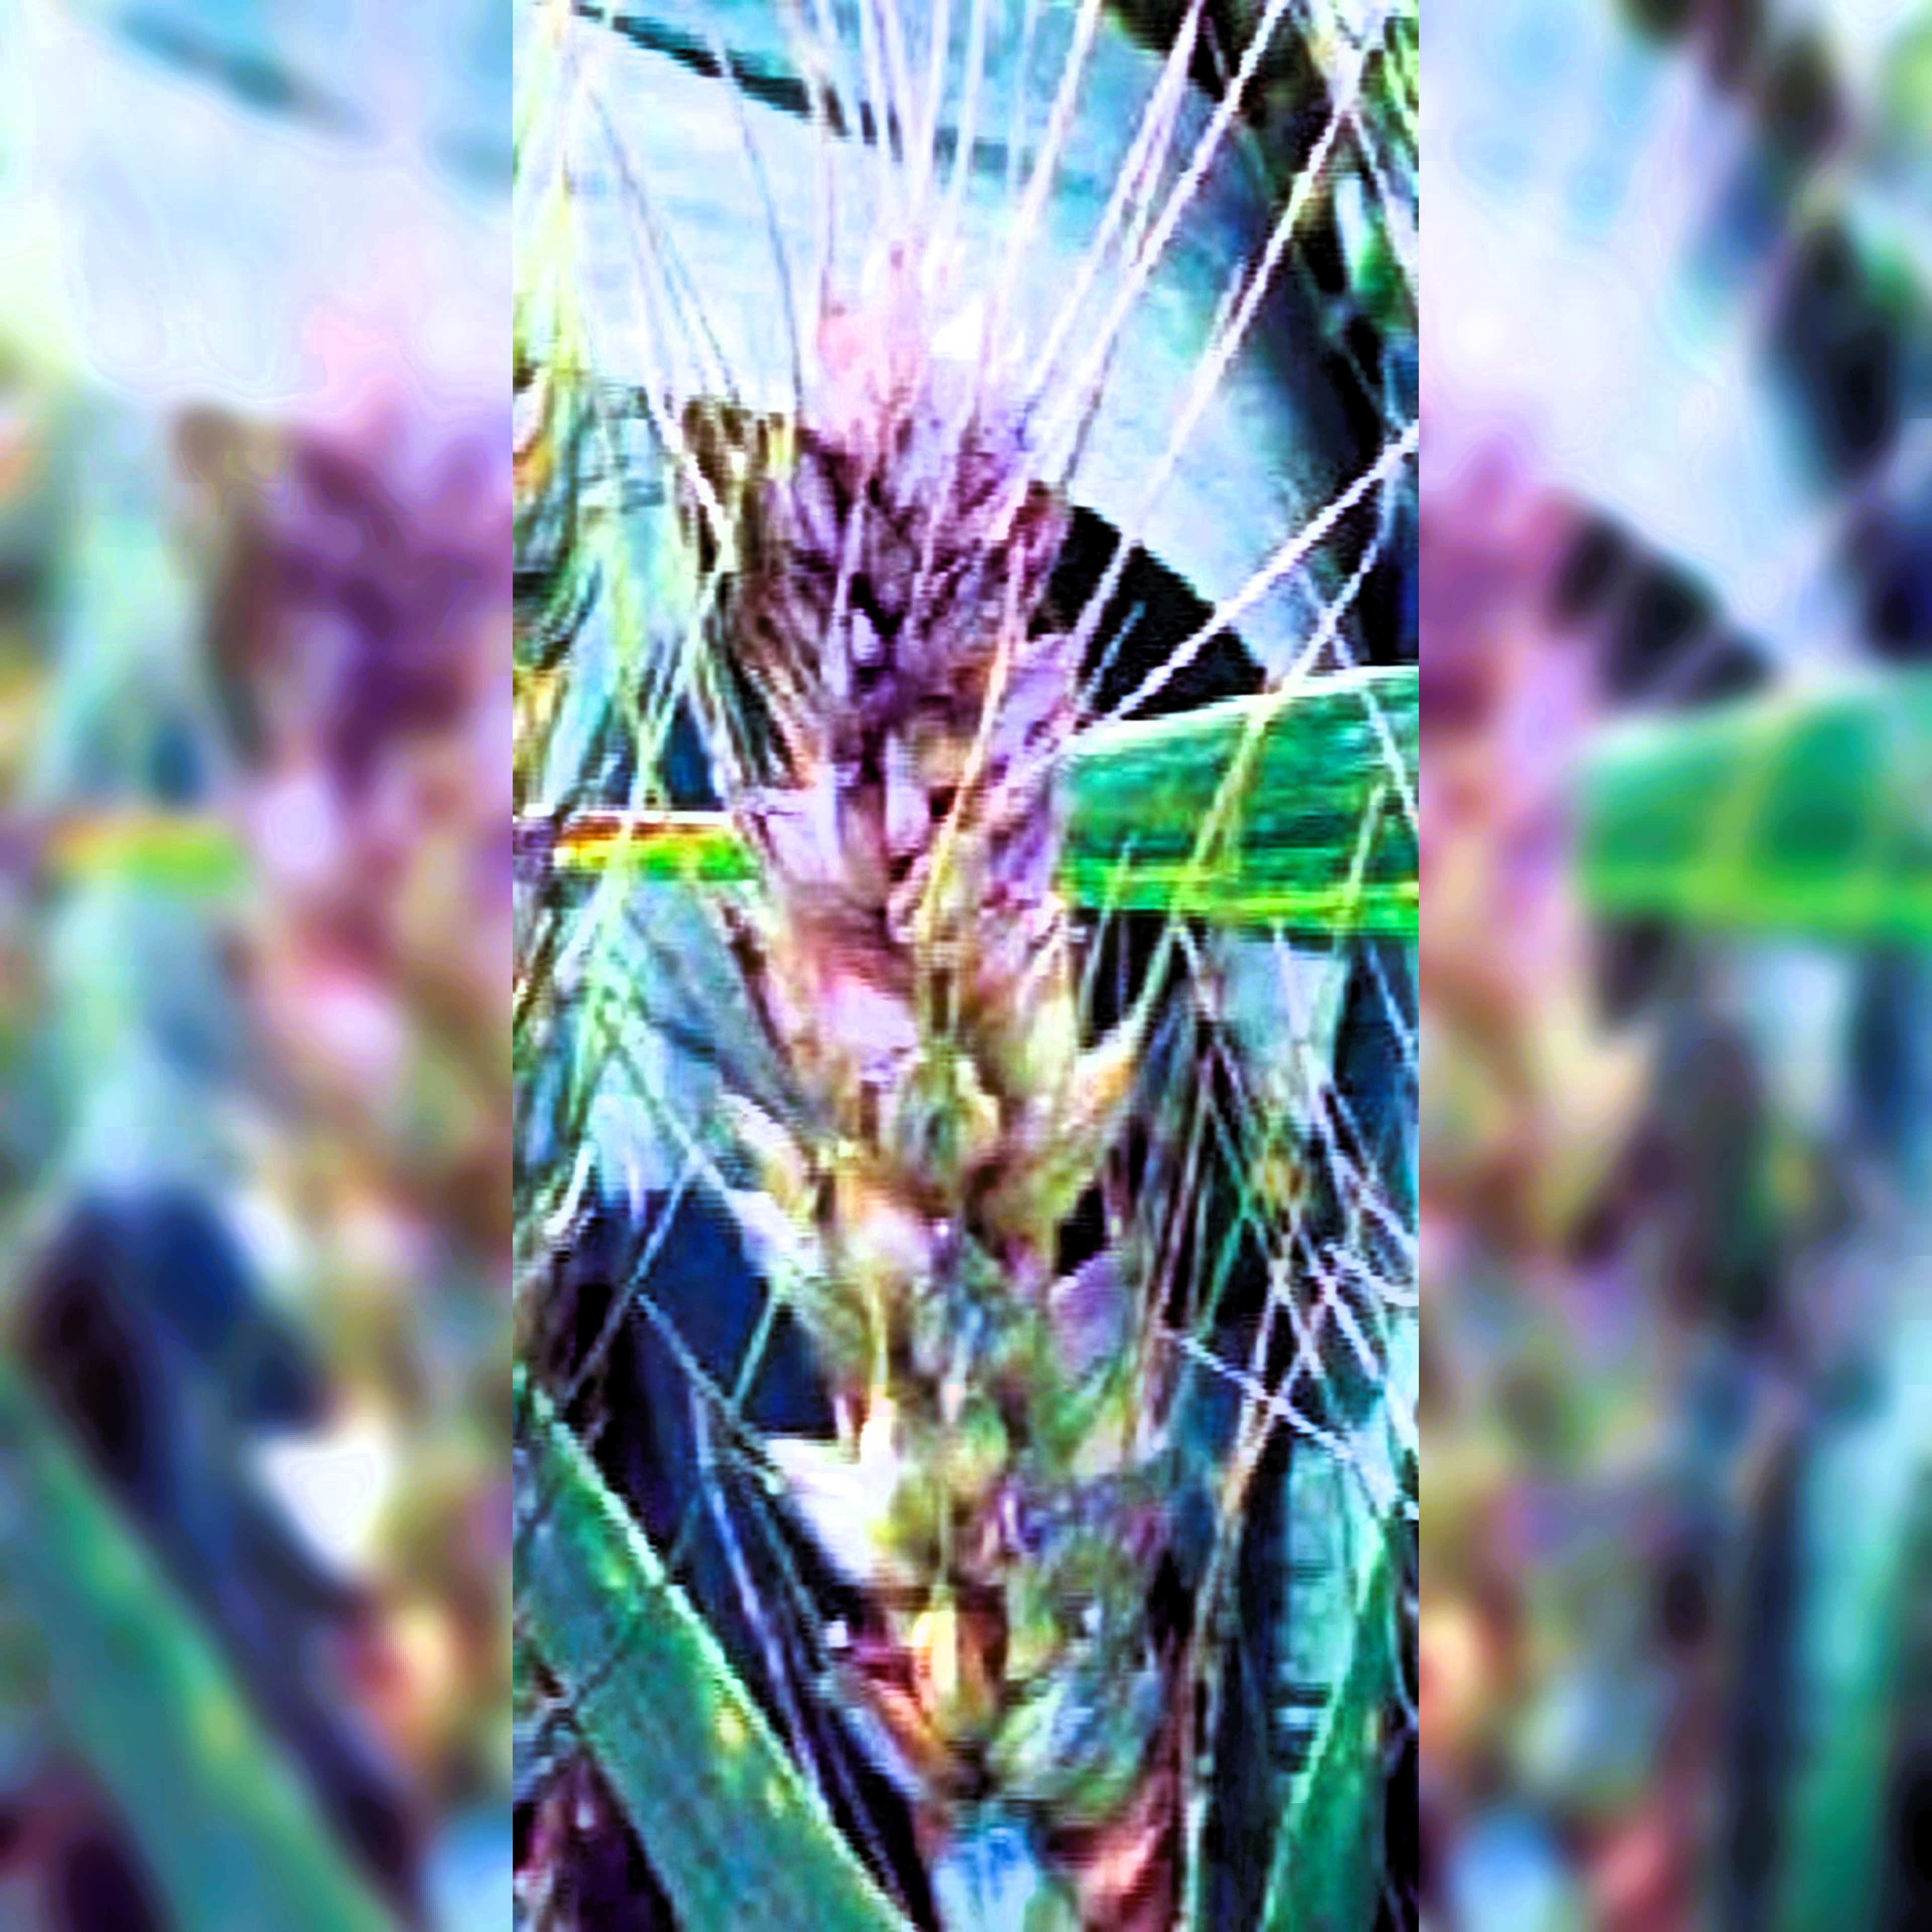Wheat scab: (704, 372, 1166, 1410)
